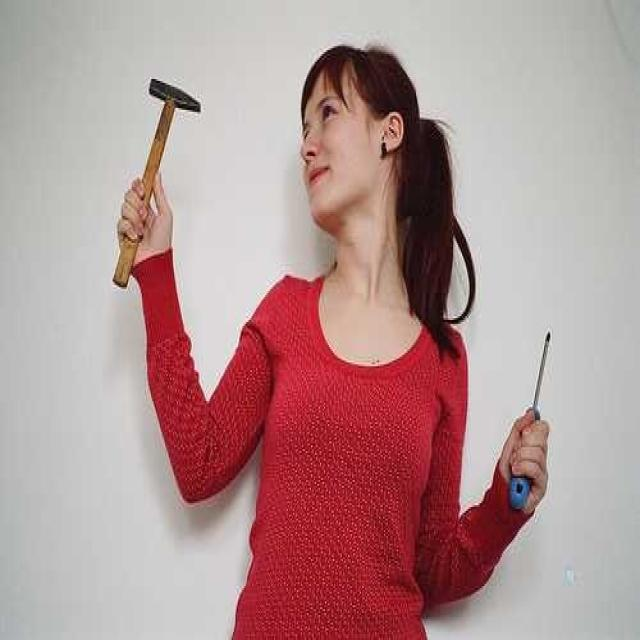hammer: (114, 69, 199, 305)
